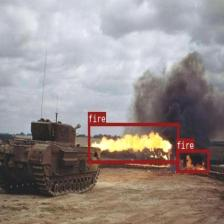fire: (88, 122, 178, 162), (176, 149, 209, 173)
